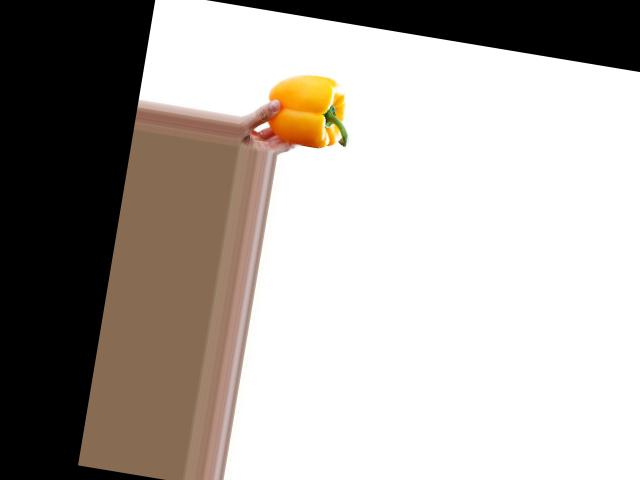bell_pepper: (260, 66, 361, 153)
